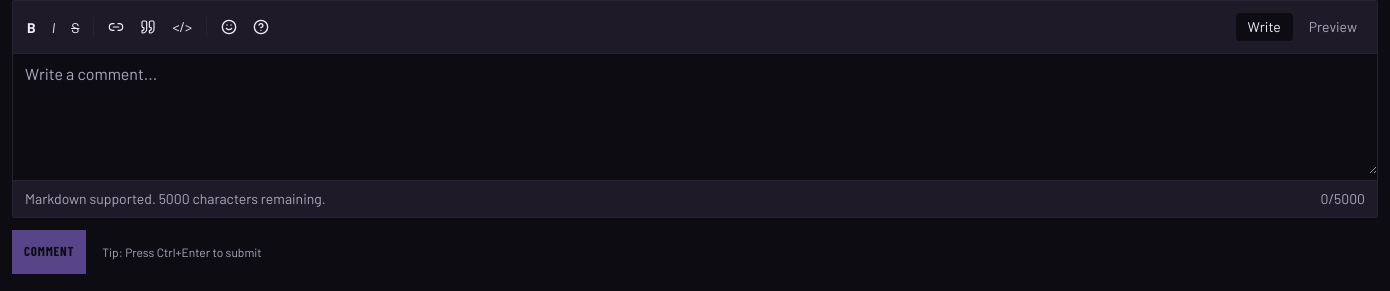
CommentForm › Character limit › should update character count as user types
The image size is (1390, 291).
Step 1. Type "Hello World" into the text box named "Comment content" → (695, 114), box [13, 54, 1377, 174]
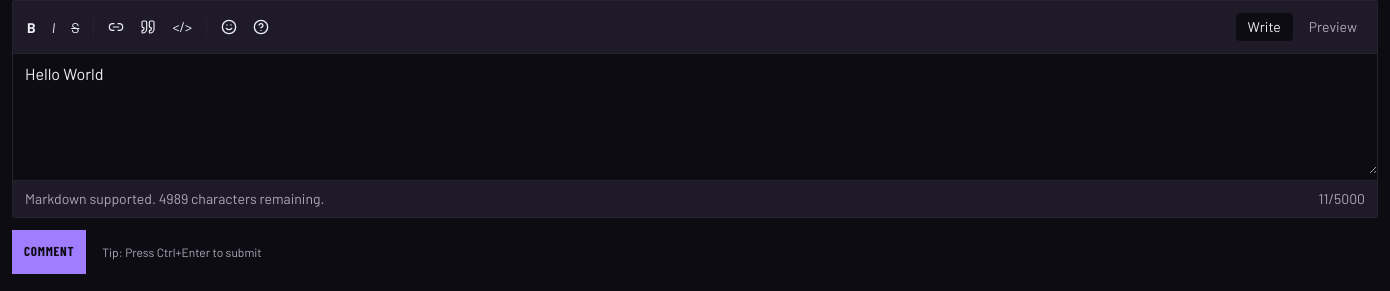
expect the text "Markdown supported. 4989 characters remaining." is shown: met, box [25, 189, 324, 209]
expect the text "11/5000" is shown: met, box [1319, 189, 1365, 209]
